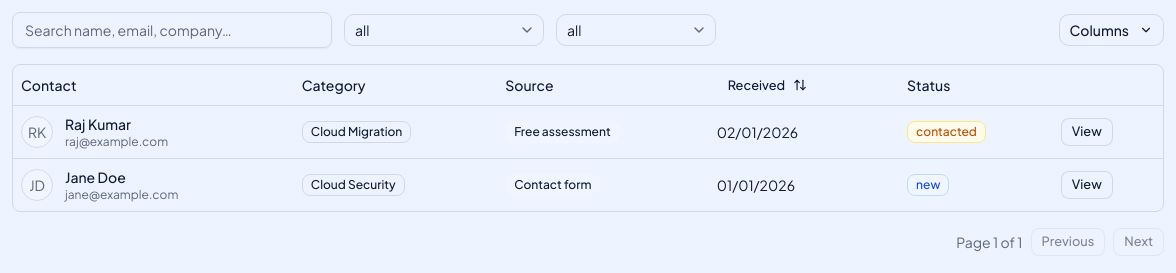
Scenario: EnquiriesDataTable › toggles column visibility via the Columns dropdown
Expected: the text "Cloud Security" is shown, [302,174,405,196]
What coordinates should you click on to do the following:
click the button "Columns"
I would click on:
 (1111, 30)
Its box is [1059,14,1164,46].
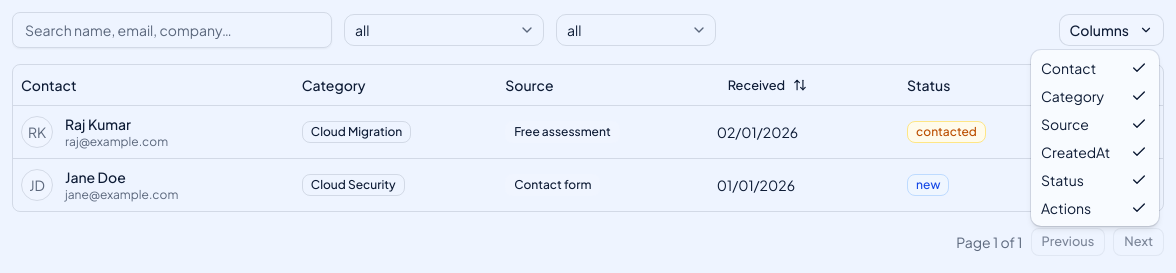
What coordinates should you click on to do the following:
click the menu item "category"
I would click on:
 (1095, 96)
Its box is [1035,82,1155,110].
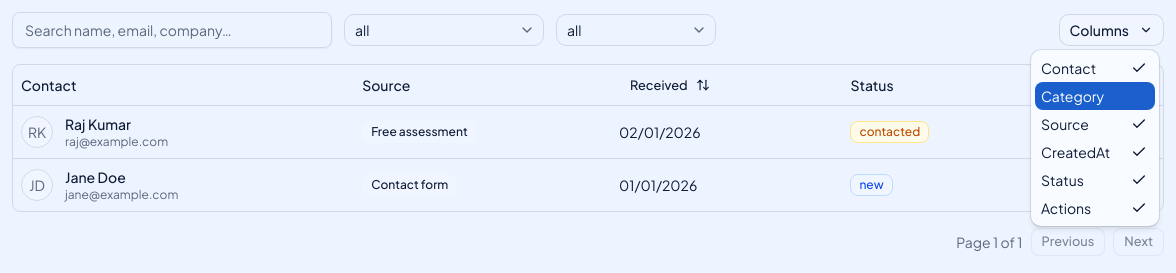
Result: the text "Cloud Security" is gone
